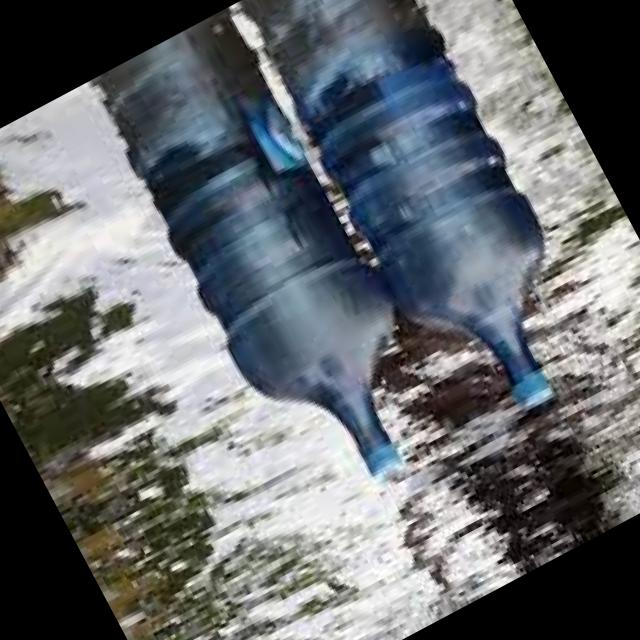Galon: (140, 108, 470, 522), (296, 38, 620, 444)
